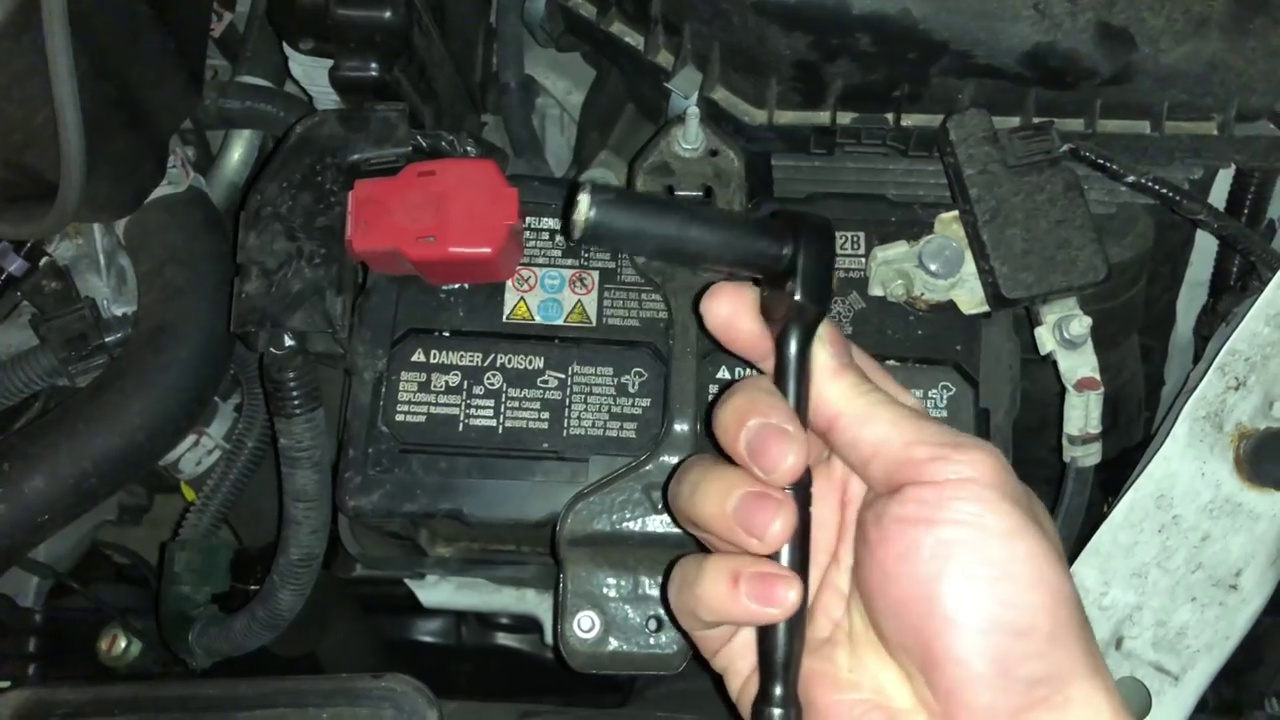battery: (335, 145, 1013, 610)
neg_connected: (867, 190, 1019, 328)
neg_touched: (760, 160, 1046, 474)
pos_connected: (335, 149, 533, 287)
